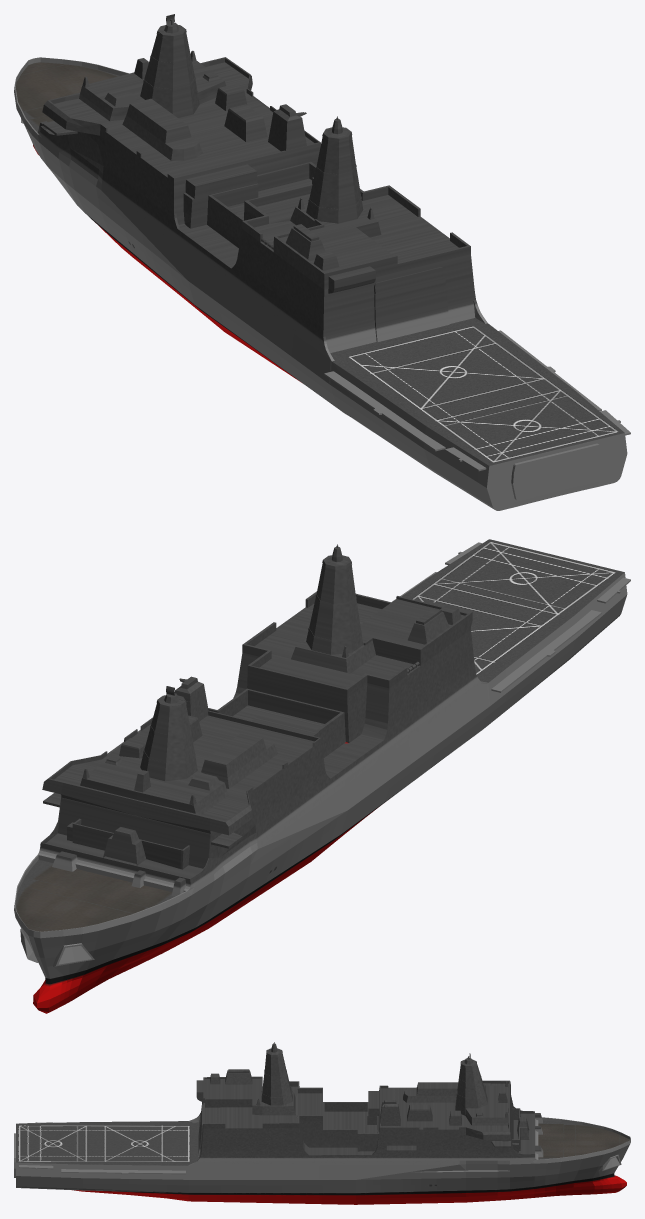
File: boss.obj
3 views of the same model, one above another, from view 1: azimuth 30°, elevation 25°; view 2: azimuth 150°, elevation 25°; view 3: azimuth 270°, elevation 25° (orthographic). The views are drawn at different scales.
Parts seen in each view (by area): view 1: 10619_Battleship; view 2: 10619_Battleship; view 3: 10619_Battleship.
Boxes of the visible parts, bbox=[...] form: 10619_Battleship: bbox=[14, 14, 630, 510]; 10619_Battleship: bbox=[14, 539, 630, 1013]; 10619_Battleship: bbox=[14, 1042, 630, 1204].
Bounding box in the file's own units: 4.54 × 5.94 × 22.07.
1 material, 1 textured.
